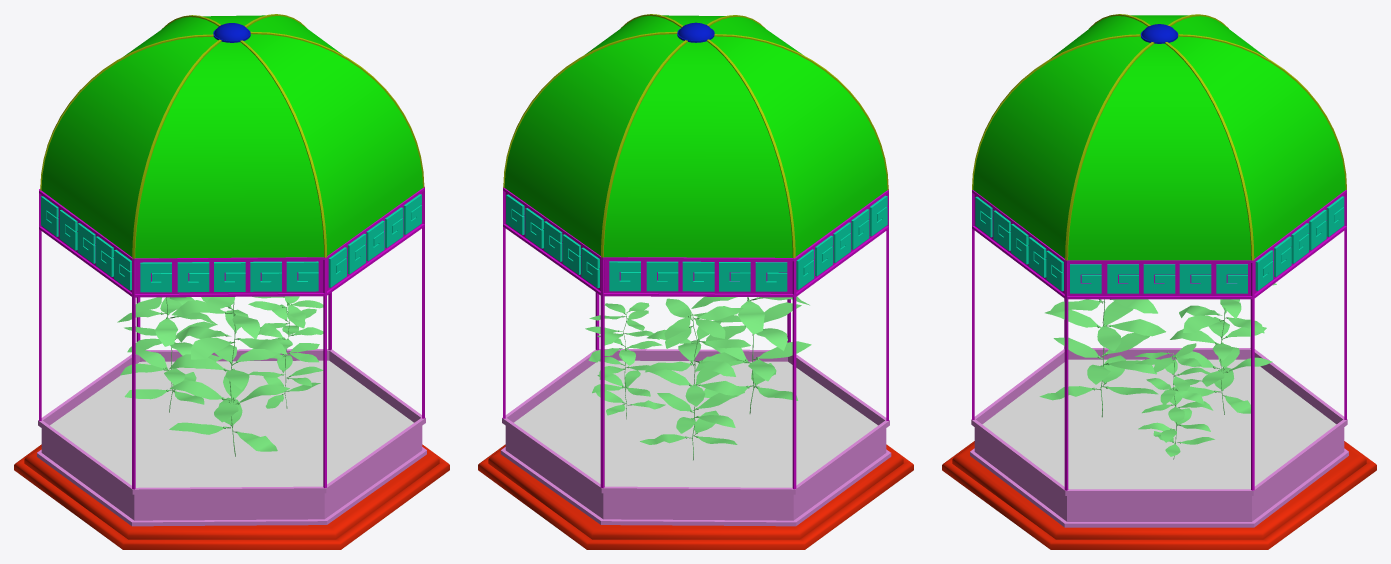
File: FarmLevel3.fbx
3 views of the same model, side by side, from view 1: azimuth 30°, elevation 25°; view 2: azimuth 150°, elevation 25°; view 3: azimuth 270°, elevation 25° (orthographic).
Parts seen in each view (by area): view 1: Roof, Terrain, Base, HexagonBase, Icons, Alga.001, RoofDetails, Alga, Columns, Alga.002; view 2: Roof, Terrain, Base, HexagonBase, Icons, Alga, RoofDetails, Alga.001, Columns, Alga.002; view 3: Roof, Terrain, Base, HexagonBase, Icons, RoofDetails, Alga.001, Alga, Columns, Alga.002.
Part boxes in pixels (x1,y1,x2,y2): Roof: [40, 14, 424, 258]; Terrain: [50, 360, 413, 487]; Base: [37, 349, 426, 526]; HexagonBase: [14, 444, 449, 549]; Icons: [41, 194, 421, 292]; Alga.001: [169, 296, 295, 456]; RoofDetails: [39, 186, 424, 297]; Alga: [117, 297, 222, 412]; Columns: [39, 187, 424, 489]; Alga.002: [248, 296, 323, 408]; Roof: [503, 14, 888, 258]; Terrain: [514, 360, 877, 487]; Base: [500, 349, 891, 526]; HexagonBase: [478, 444, 913, 549]; Icons: [506, 194, 887, 291]; Alga: [640, 298, 750, 460]; RoofDetails: [503, 188, 888, 297]; Alga.001: [691, 296, 811, 413]; Columns: [503, 187, 888, 489]; Alga.002: [585, 302, 665, 419]; Roof: [972, 14, 1346, 260]; Terrain: [982, 359, 1336, 489]; Base: [970, 348, 1348, 527]; HexagonBase: [942, 441, 1376, 549]; Icons: [975, 196, 1344, 293]; RoofDetails: [972, 190, 1346, 299]; Alga.001: [1039, 299, 1165, 417]; Alga: [1169, 283, 1276, 414]; Columns: [972, 192, 1346, 490]; Alga.002: [1135, 343, 1214, 459].
Bounding box in the file's own units: 327 × 425 × 377.
